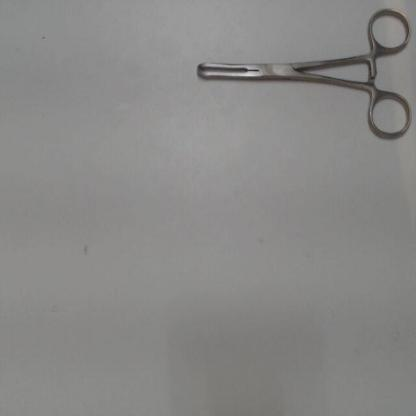Allis Tissue Forceps: (188, 4, 416, 151)
